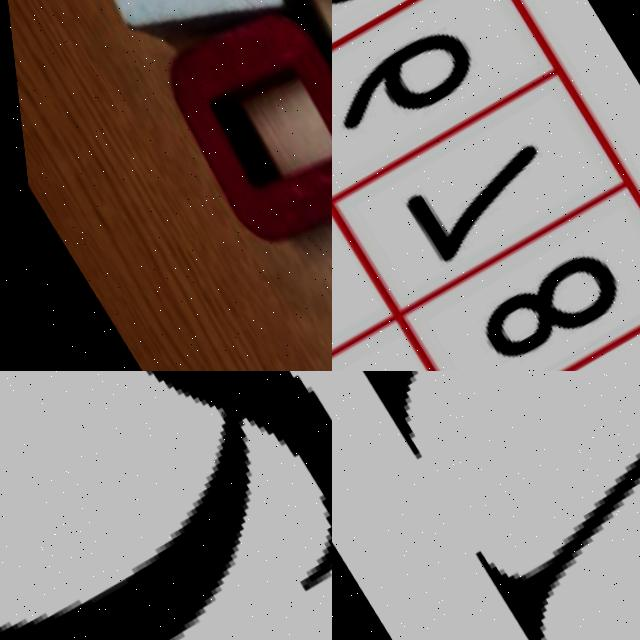5: (332, 0, 418, 44)
6: (332, 21, 485, 154)
7: (387, 134, 563, 272)
8: (456, 248, 624, 371)
H: (29, 0, 332, 96)
O: (127, 0, 332, 287)
Q: (0, 371, 332, 640)
U: (332, 371, 640, 640)
